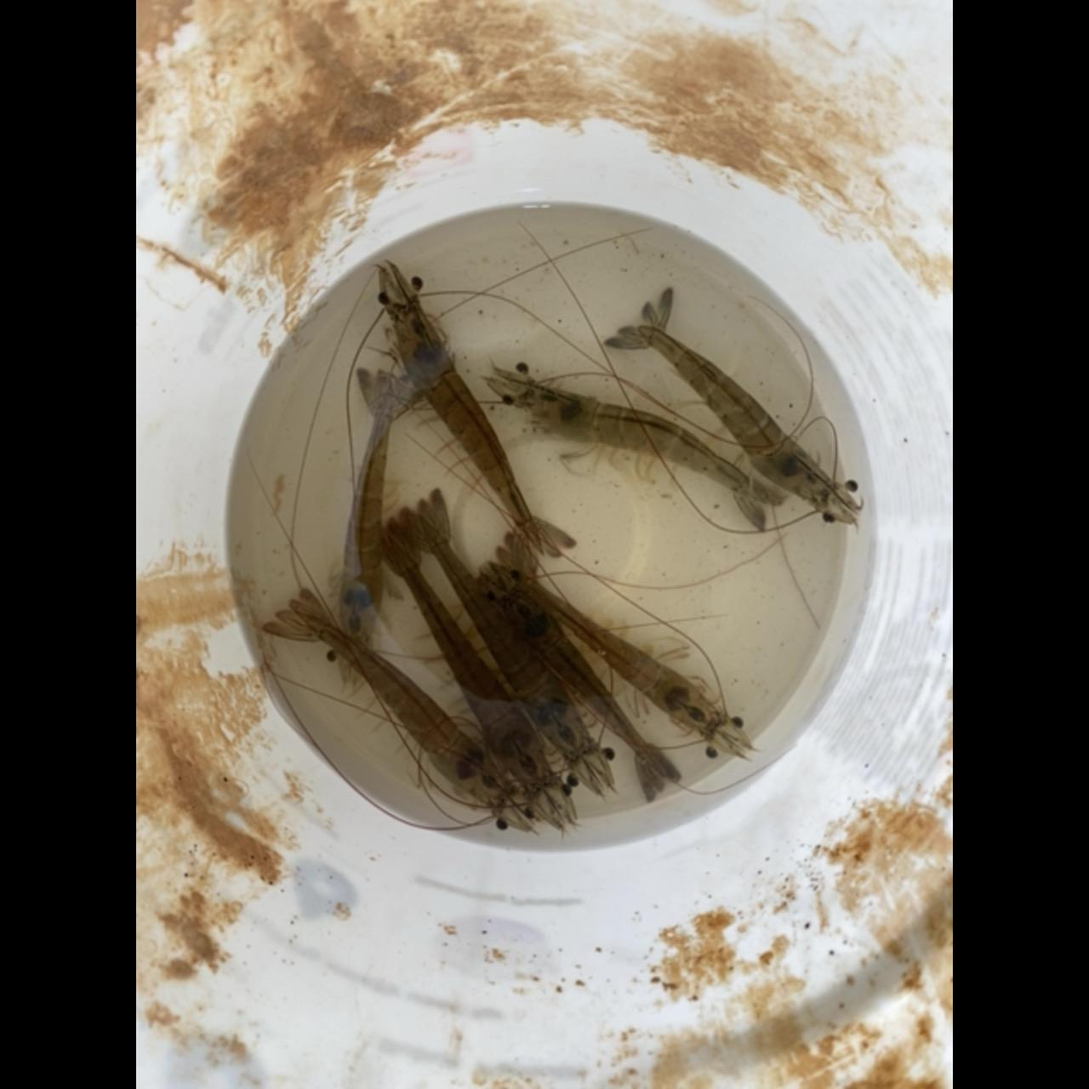round_base: (253, 237, 848, 827)
top_shrimp: (418, 516, 595, 764), (294, 612, 510, 808), (388, 533, 552, 790), (391, 304, 541, 548), (510, 570, 723, 735), (638, 328, 835, 505), (507, 591, 662, 772), (528, 388, 762, 502), (338, 383, 393, 653)
